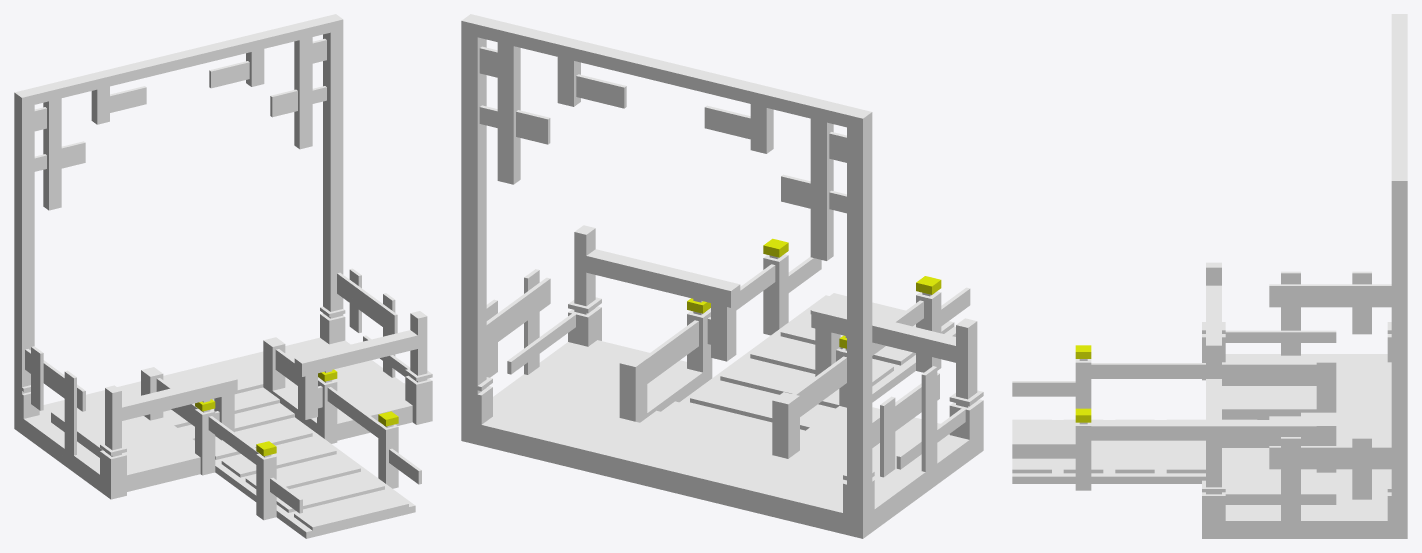
The model's file is walkway_1.obj.
The picture shows the model from 3 angles, left to right: view 1: azimuth 30°, elevation 25°; view 2: azimuth 150°, elevation 25°; view 3: azimuth 270°, elevation 25°; orthographic projection. The views are drawn at different scales.
Parts seen in each view (by area): view 1: walkway_1; view 2: walkway_1; view 3: walkway_1.
Boxes of the visible parts, x1,y1,x2,y2 form: walkway_1: (14,14,432,538); walkway_1: (461,14,983,538); walkway_1: (1012,14,1407,538).
Size of the model in its own units: 100 by 100 by 100.
Materials: 1 (1 with a texture image).
